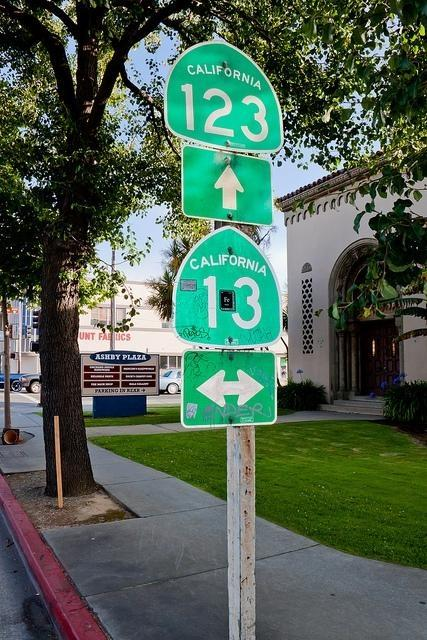car: (160, 368, 182, 394), (18, 372, 40, 394)
